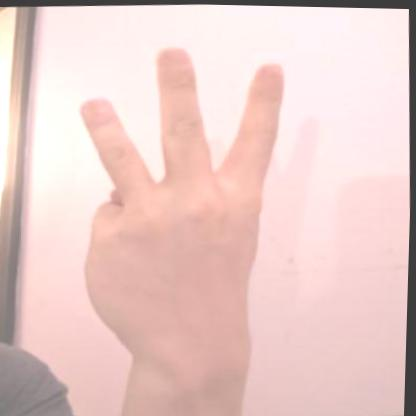W: (54, 29, 306, 373)
